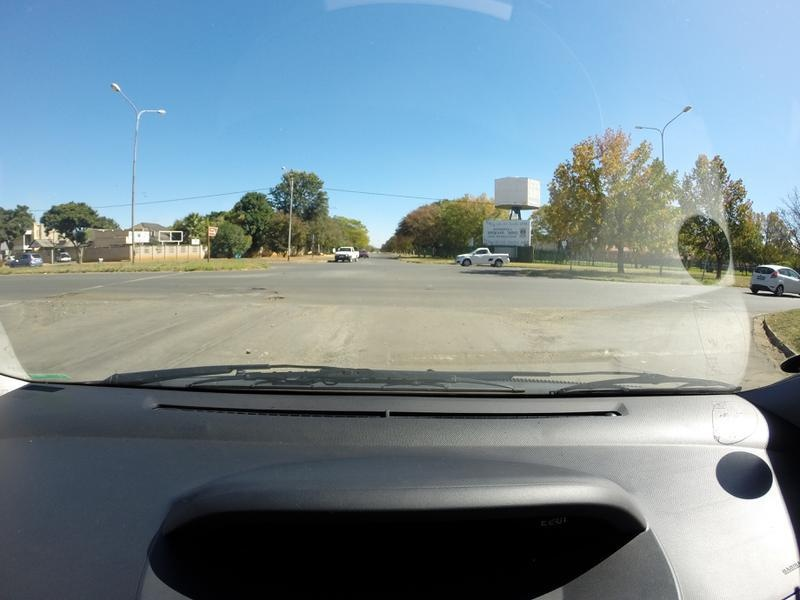pothole: (261, 290, 290, 304), (247, 280, 264, 302)
